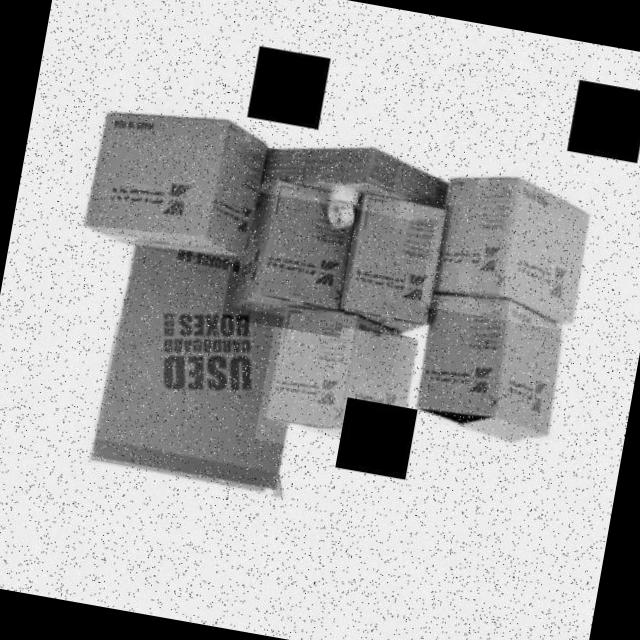box: (80, 223, 327, 504), (71, 90, 274, 266), (420, 152, 608, 334), (406, 284, 573, 470), (254, 298, 426, 464), (221, 154, 368, 338), (260, 125, 452, 224), (331, 190, 453, 342)
